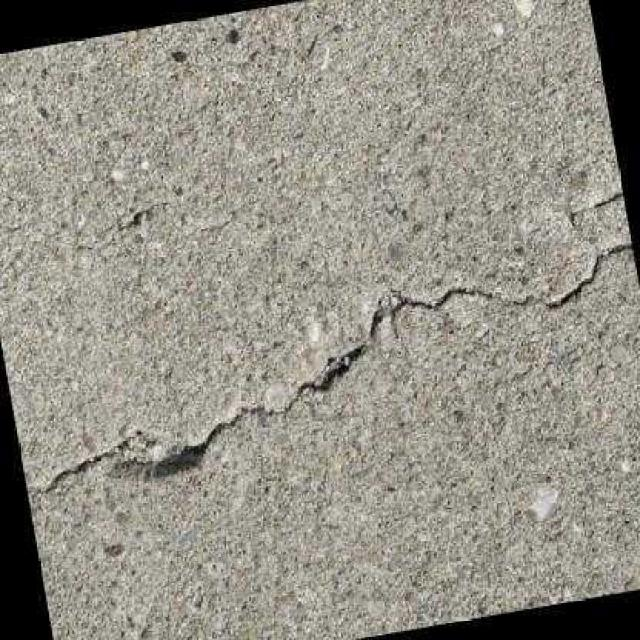D00: (24, 241, 632, 494)
